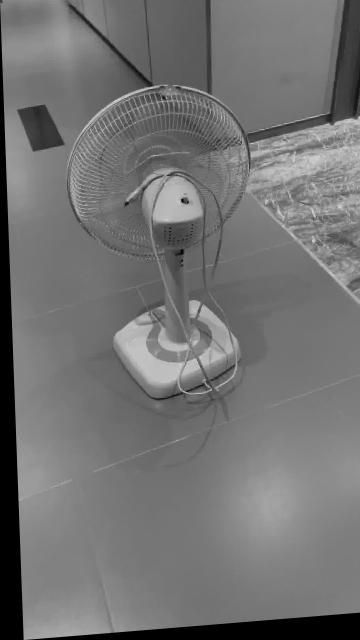Fan: (63, 87, 249, 404)
